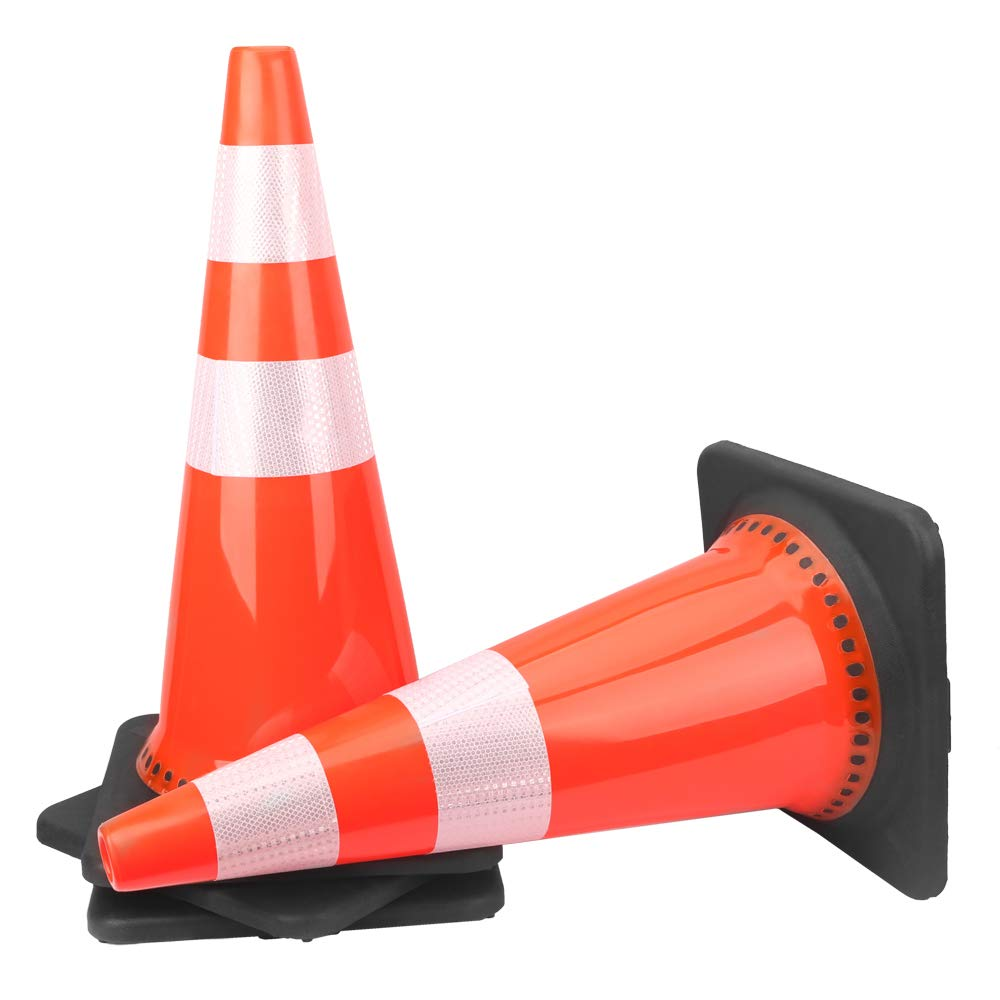cones: (85, 432, 968, 914), (61, 43, 524, 955)
